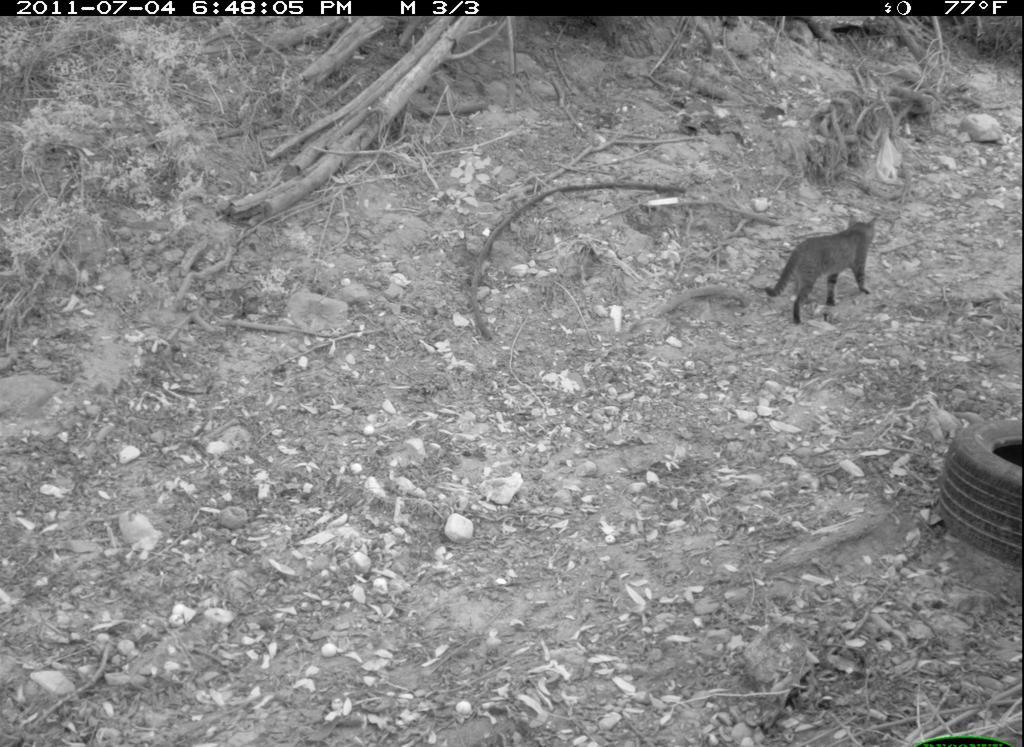cat: (754, 194, 911, 340)
